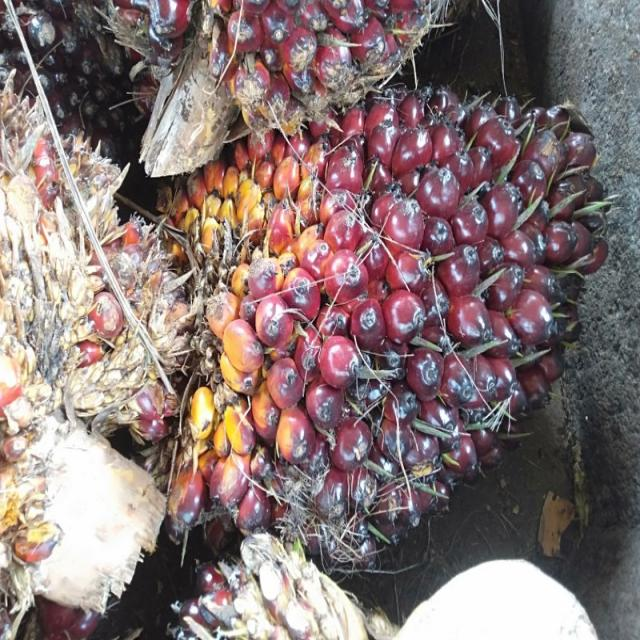fraksi 00: (159, 100, 604, 544)
